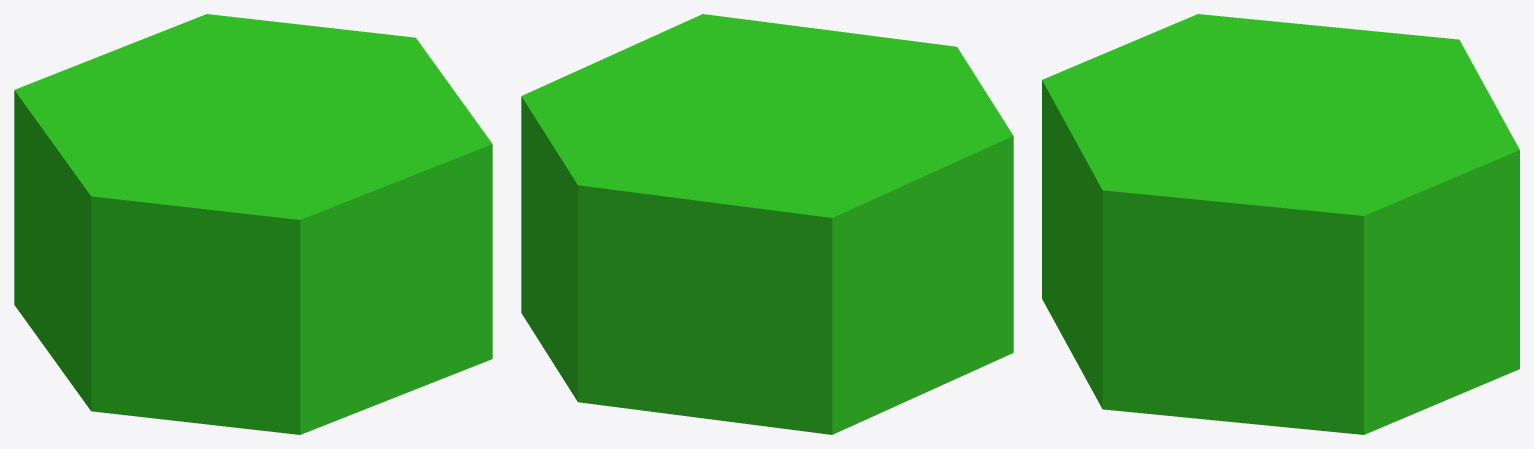
The model's file is NormalContent.fbx.
3 renders of one model, left to right at view 1: azimuth 30°, elevation 25°; view 2: azimuth 150°, elevation 25°; view 3: azimuth 270°, elevation 25°, orthographic.
Parts seen in each view (by area): view 1: Model; view 2: Model; view 3: Model.
Part boxes in pixels (x1=…): Model: x1=14, y1=14, x2=492, y2=434; Model: x1=521, y1=14, x2=1013, y2=434; Model: x1=1042, y1=14, x2=1519, y2=434.
Size of what is drawn, in the model's own units: 0.609 by 0.308 by 0.609.
